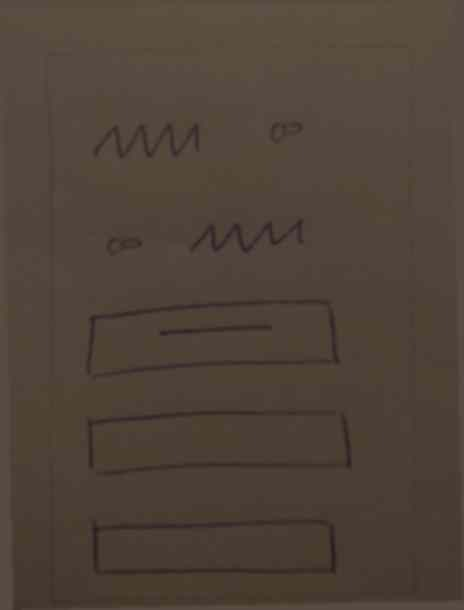button: (76, 290, 352, 382)
switch: (256, 113, 318, 154), (92, 222, 151, 265)
text: (78, 109, 222, 172), (177, 209, 318, 260)
text_input: (81, 398, 368, 491), (84, 506, 344, 588)
